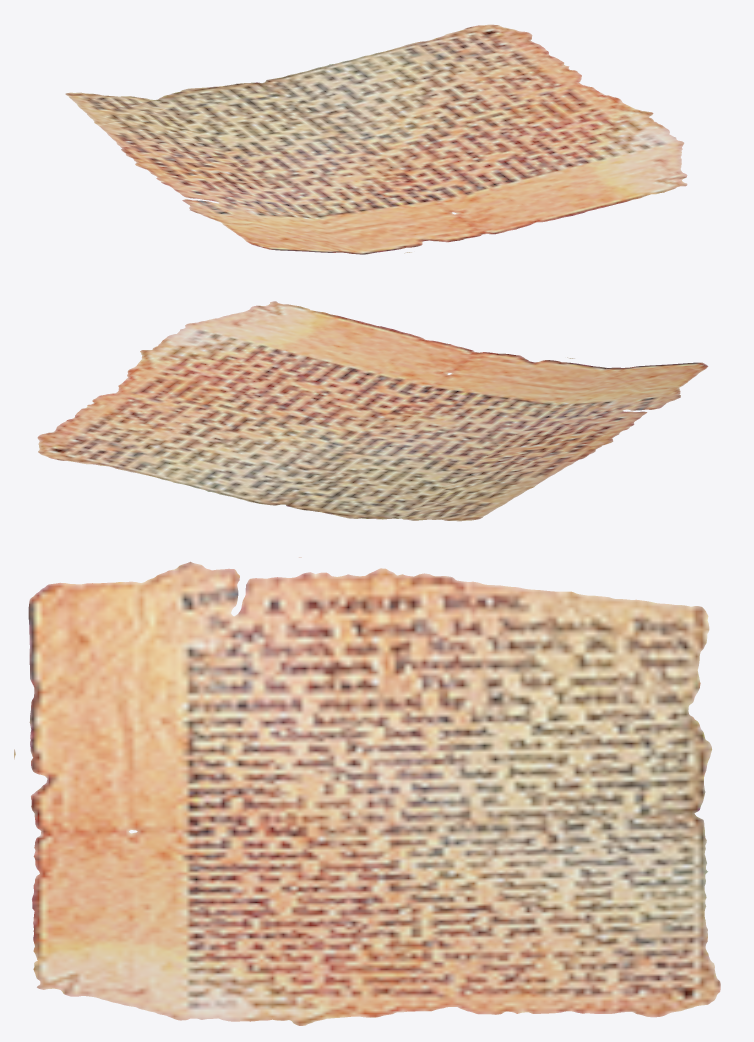
The model's file is Old_paper.fbx.
3 views of the same model, one above another, from view 1: azimuth 30°, elevation 25°; view 2: azimuth 150°, elevation 25°; view 3: azimuth 270°, elevation 25° (orthographic). The views are drawn at different scales.
Parts seen in each view (by area): view 1: pPlane1; view 2: pPlane1; view 3: pPlane1.
Boxes of the visible parts, x1,y1,x2,y2 form: pPlane1: [65, 24, 687, 254]; pPlane1: [37, 301, 708, 521]; pPlane1: [14, 557, 720, 1025].
Bounding box in the file's own units: 0.9669 × 0.0955 × 0.7546.
